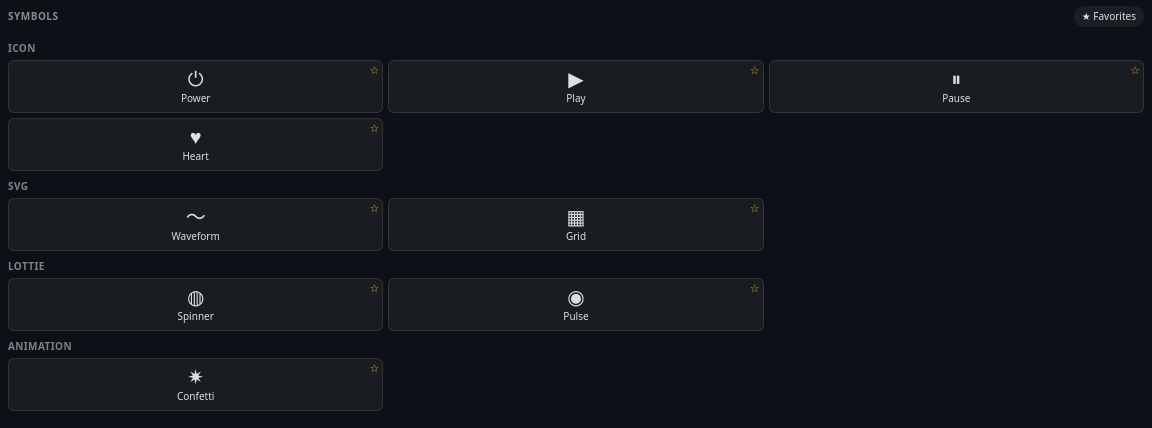
Symbols (CD-322) › favorite toggle filters to favorites
The image size is (1152, 428).
Click the 2nd button with class "dd-symbol-fav": (755, 70) [750,62,760,78]
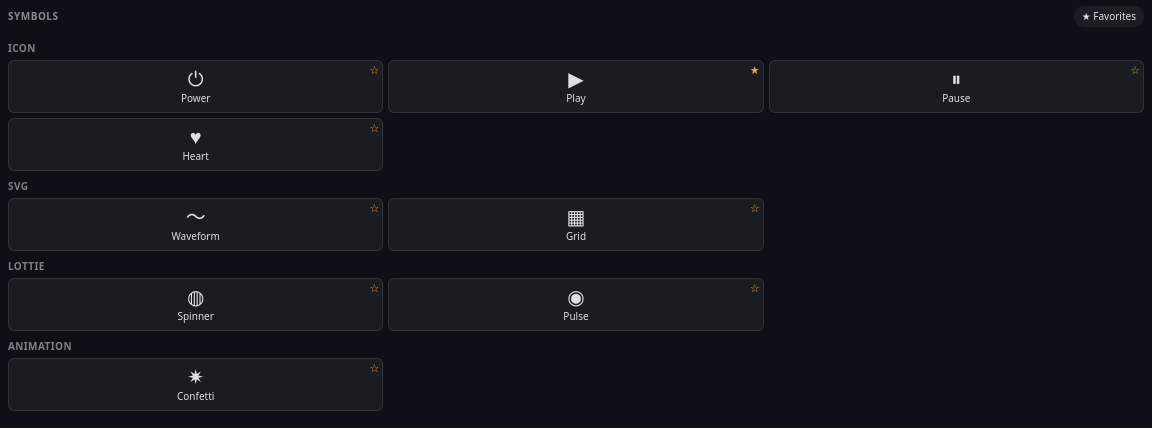
Click the button "★ Favorites": (1109, 16) [1074,6,1144,27]
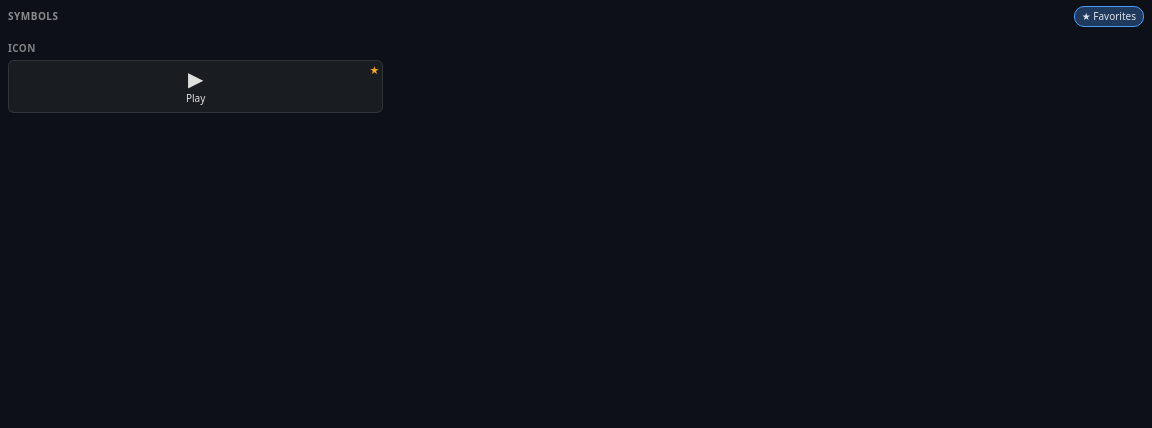
Expected: the number of buttons with class "dd-symbol-tile" is 1, [8,60,383,113]
